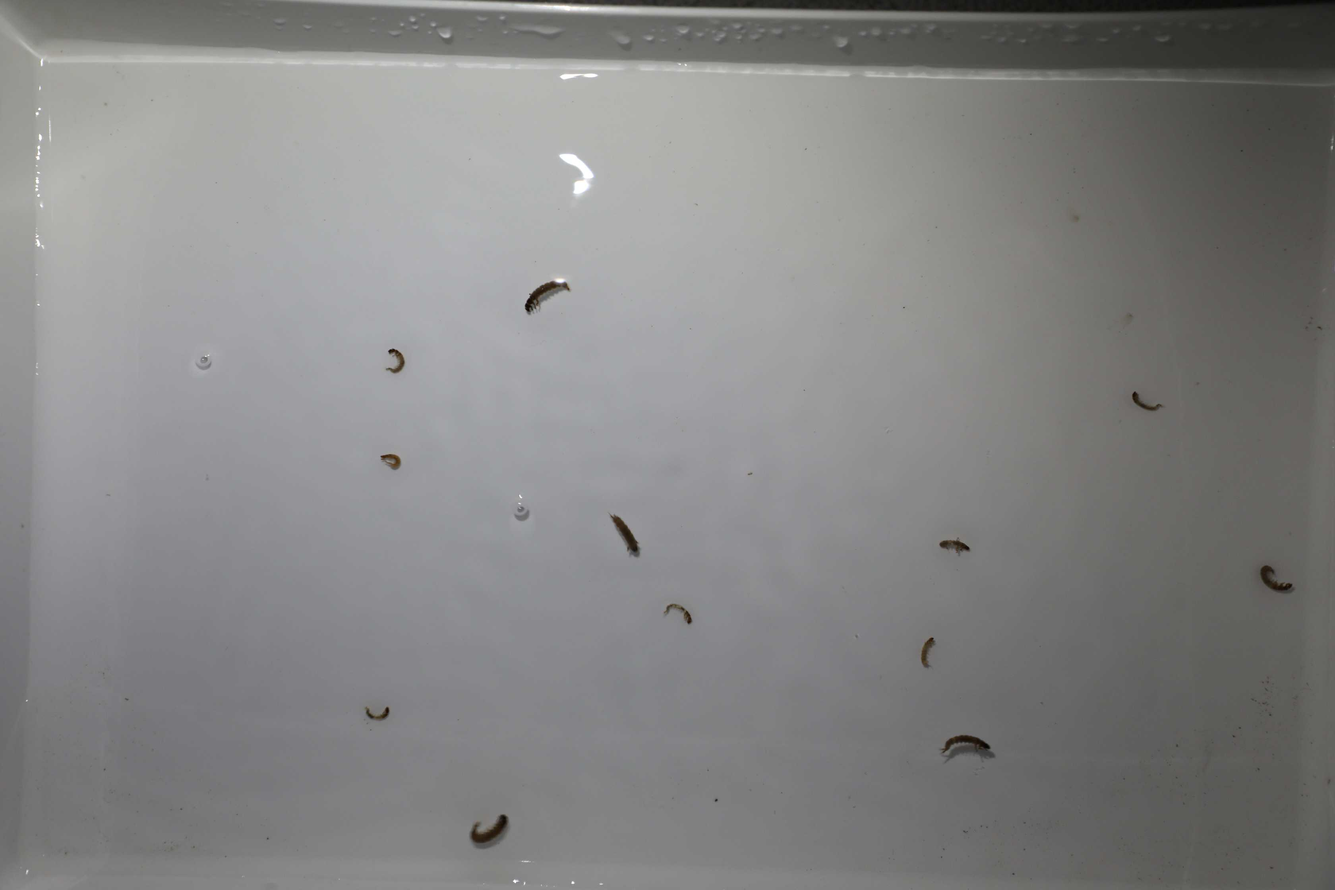Cadisfly: (515, 277, 571, 315), (941, 727, 994, 763), (466, 807, 512, 847), (1123, 383, 1166, 424), (608, 510, 644, 558), (1258, 563, 1299, 596), (383, 342, 409, 380), (935, 533, 971, 558), (378, 446, 406, 474), (918, 636, 941, 670), (664, 601, 694, 623), (357, 702, 391, 720)
